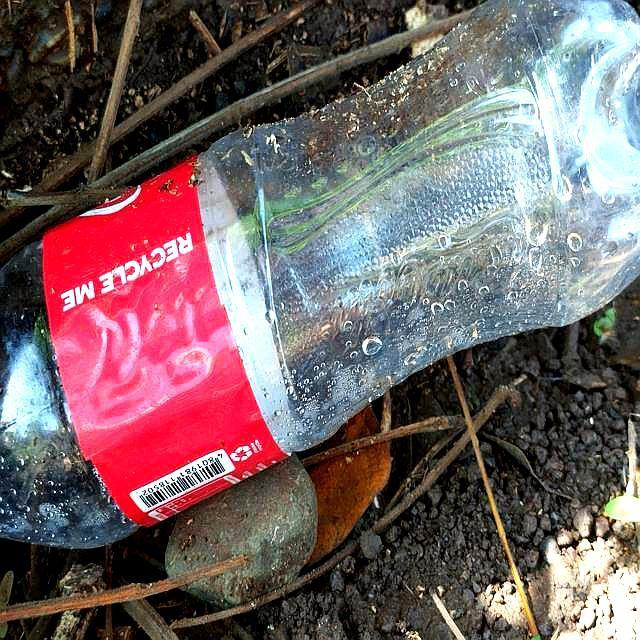Non-biodegradable: (1, 1, 640, 603)
